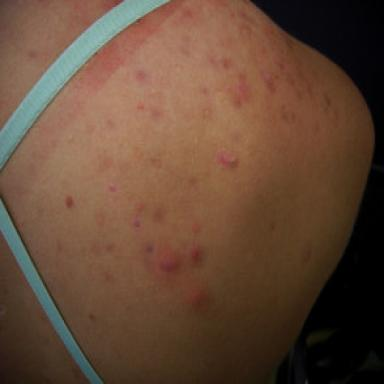acne: (233, 73, 251, 108), (159, 247, 182, 273), (184, 284, 206, 305), (215, 150, 239, 168), (185, 243, 203, 265), (260, 71, 275, 92), (301, 242, 312, 261), (134, 70, 148, 83), (154, 207, 165, 223), (108, 183, 119, 194), (95, 213, 105, 225), (191, 221, 200, 234), (65, 195, 74, 208), (221, 59, 231, 69), (135, 203, 144, 213), (133, 219, 143, 228), (203, 109, 211, 120), (184, 10, 193, 19), (203, 167, 211, 177), (144, 244, 154, 252), (265, 27, 273, 35), (106, 243, 114, 251), (137, 103, 144, 109)
